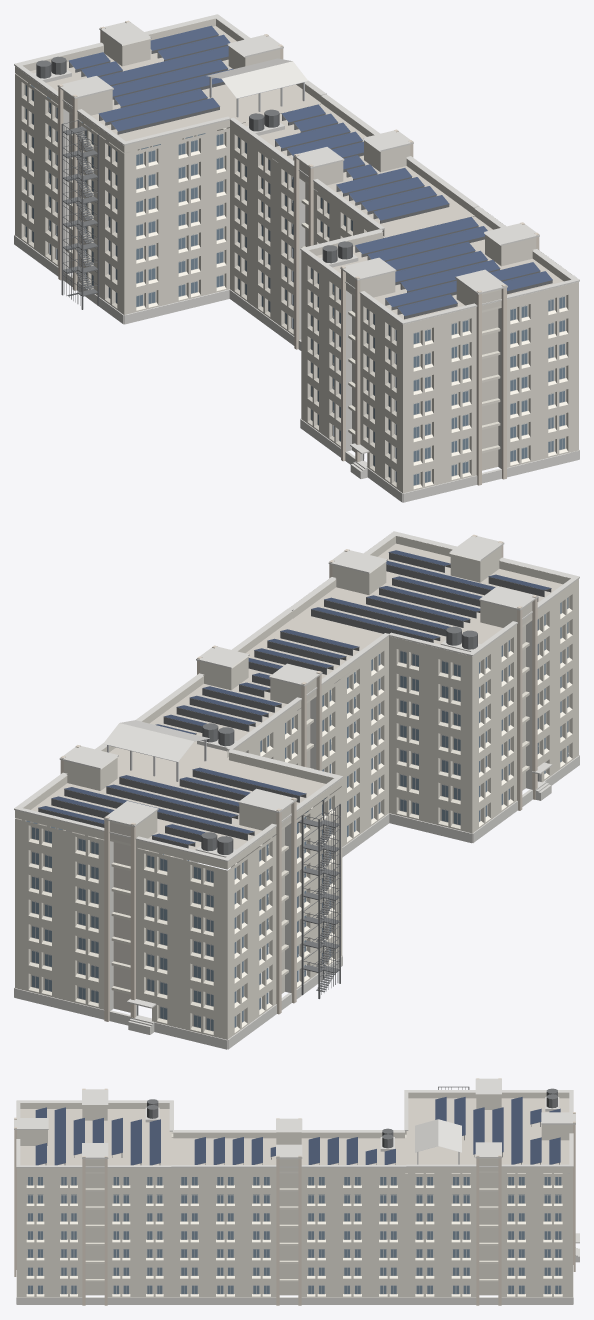
Rendered from Girls_Hostel_A.fbx.
The picture shows the model from 3 angles, top to bottom: view 1: azimuth 30°, elevation 25°; view 2: azimuth 150°, elevation 25°; view 3: azimuth 270°, elevation 25°; orthographic projection. The views are drawn at different scales.
Visible parts, largest first — view 1: Girls_Hostel_A; view 2: Girls_Hostel_A; view 3: Girls_Hostel_A.
Boxes of the visible parts, box(x1,y1,x2,y2) form: Girls_Hostel_A: box(14, 14, 579, 502); Girls_Hostel_A: box(14, 531, 579, 1049); Girls_Hostel_A: box(14, 1078, 579, 1305).
Bounding box in the file's own units: 34.18 × 28.94 × 96.3.
